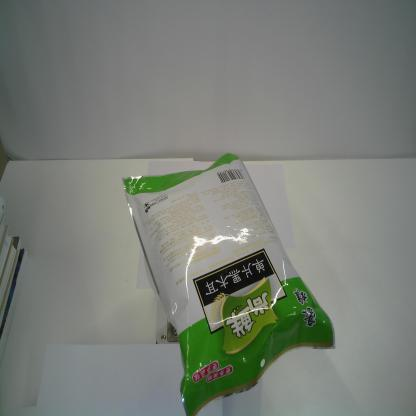Dried Food: (121, 151, 337, 415)
